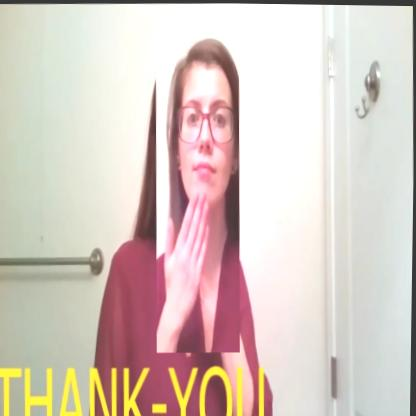ThankYou: (152, 33, 244, 353)
